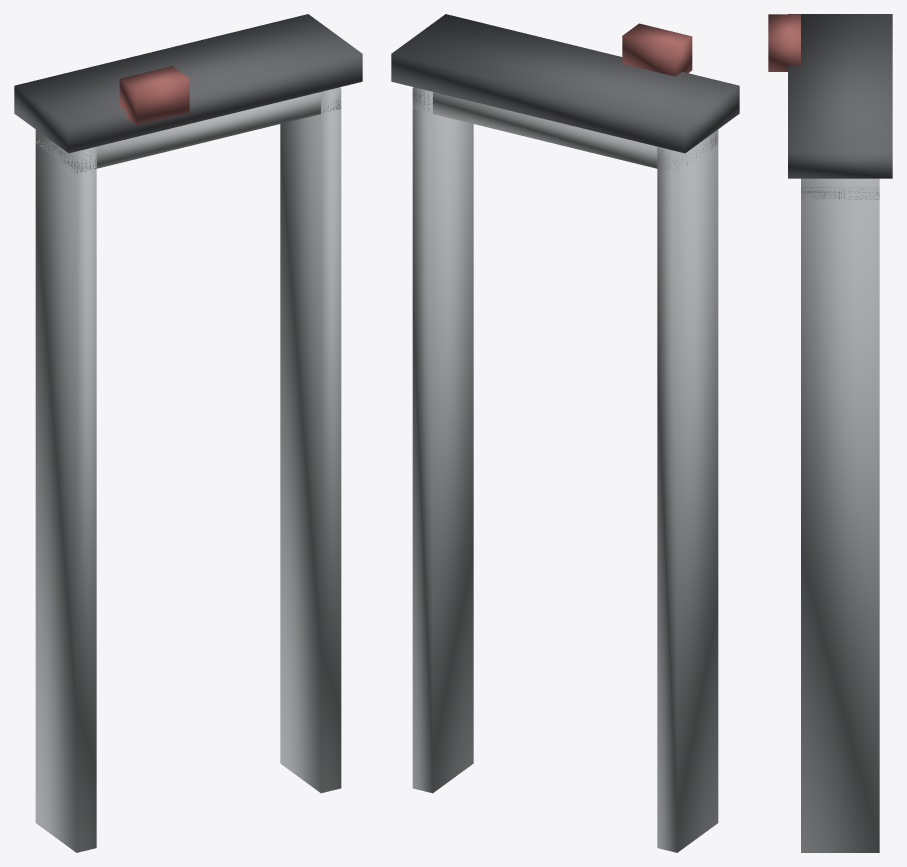
The model's file is doorway_fire_rated_w76_h220_d24.glb.
The picture shows the model from 3 angles, left to right: view 1: azimuth 30°, elevation 25°; view 2: azimuth 150°, elevation 25°; view 3: azimuth 270°, elevation 25°; orthographic projection. The views are drawn at different scales.
Visible parts, largest first — view 1: world; view 2: world; view 3: world.
Part boxes in pixels (<box>): world: <box>14,14,362,852</box>; world: <box>391,14,739,852</box>; world: <box>768,14,892,852</box>.
Bounding box in the file's own units: 0.9968 × 2.47 × 0.38.
